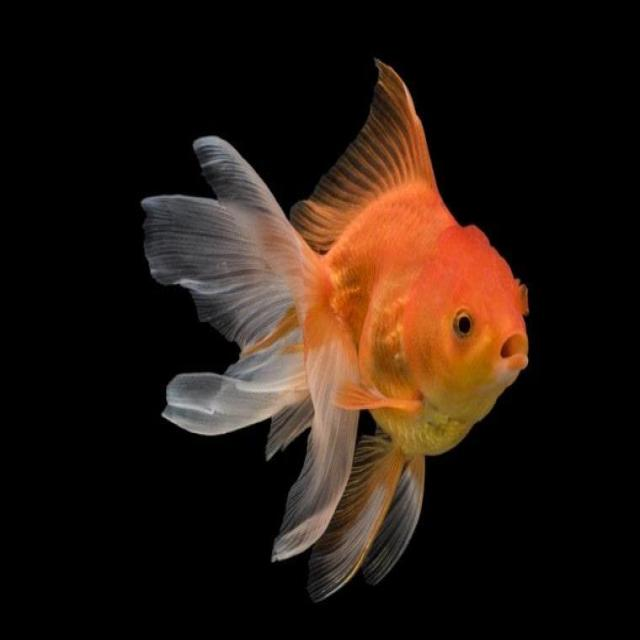GoldFish: (134, 58, 530, 602)
